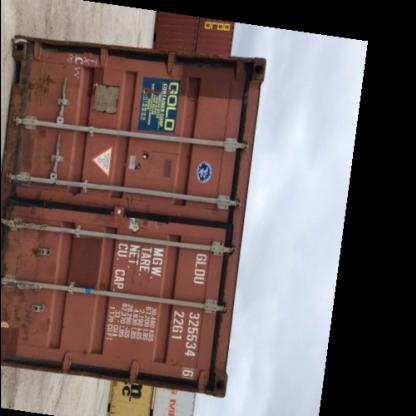Damage: (4, 190, 59, 276), (2, 286, 48, 340), (124, 198, 171, 236), (30, 66, 66, 104), (134, 144, 162, 176), (29, 126, 56, 150)
